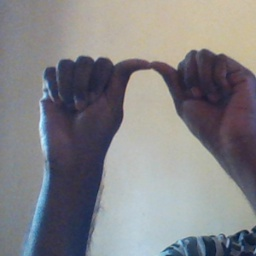A: (36, 47, 256, 166)
